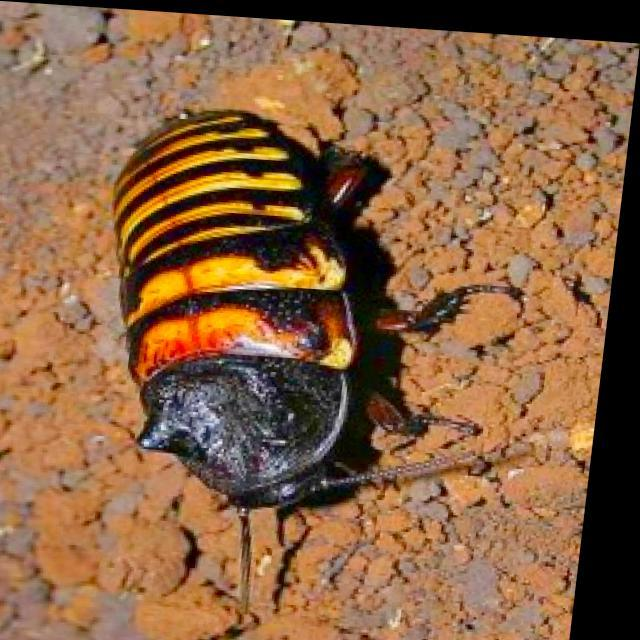cockroach: (106, 104, 511, 629)
